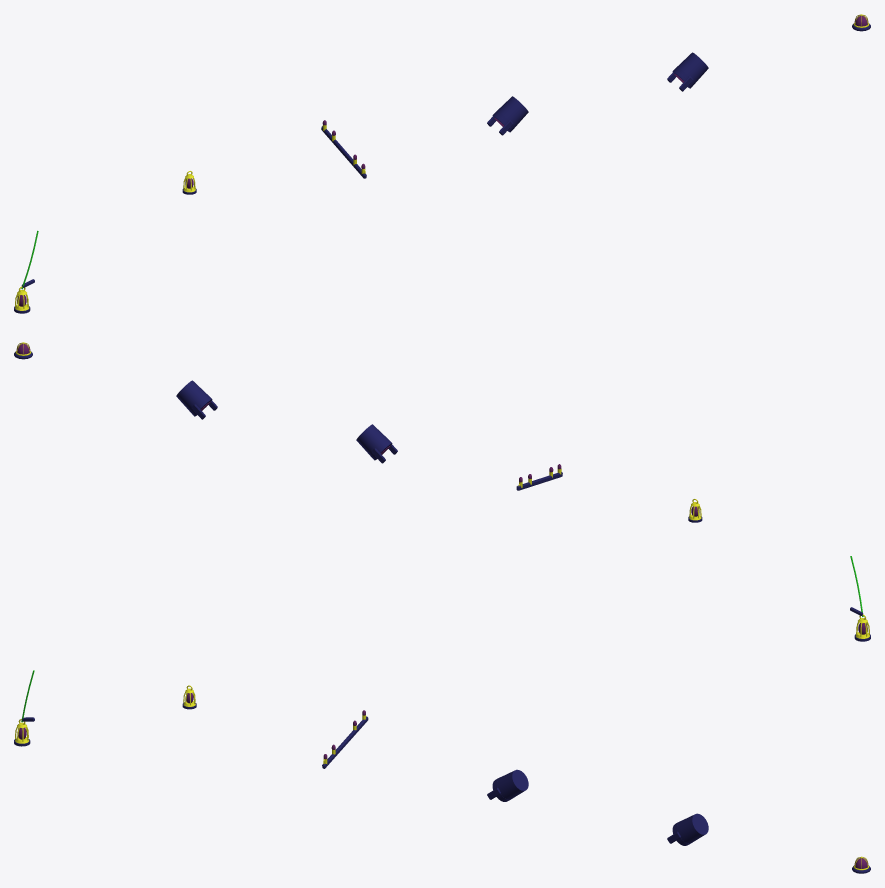
The model's file is 06_Lights_low.fbx.
3 views of the same model, one above another, from view 1: azimuth 30°, elevation 25°; view 2: azimuth 150°, elevation 25°; view 3: azimuth 330°, elevation 25° (orthographic).
Visible parts, largest first — view 1: Spotlight_02_low, Spotlight_01_low; view 2: Spotlight_02_low, Spotlight_01_low; view 3: Spotlight_01_low, Spotlight_02_low, BackstageLantern_low, MoonLampBar_low.
Part boxes in pixels (<box>): Spotlight_02_low: <box>667,52,708,91</box>; Spotlight_01_low: <box>487,96,528,135</box>; Spotlight_02_low: <box>176,380,217,419</box>; Spotlight_01_low: <box>356,424,397,463</box>; Spotlight_01_low: <box>487,769,528,801</box>; Spotlight_02_low: <box>667,813,708,845</box>; BackstageLantern_low: <box>14,670,34,746</box>; MoonLampBar_low: <box>322,710,368,768</box>.
Size of the model in its own units: 1979 by 176 by 218.
